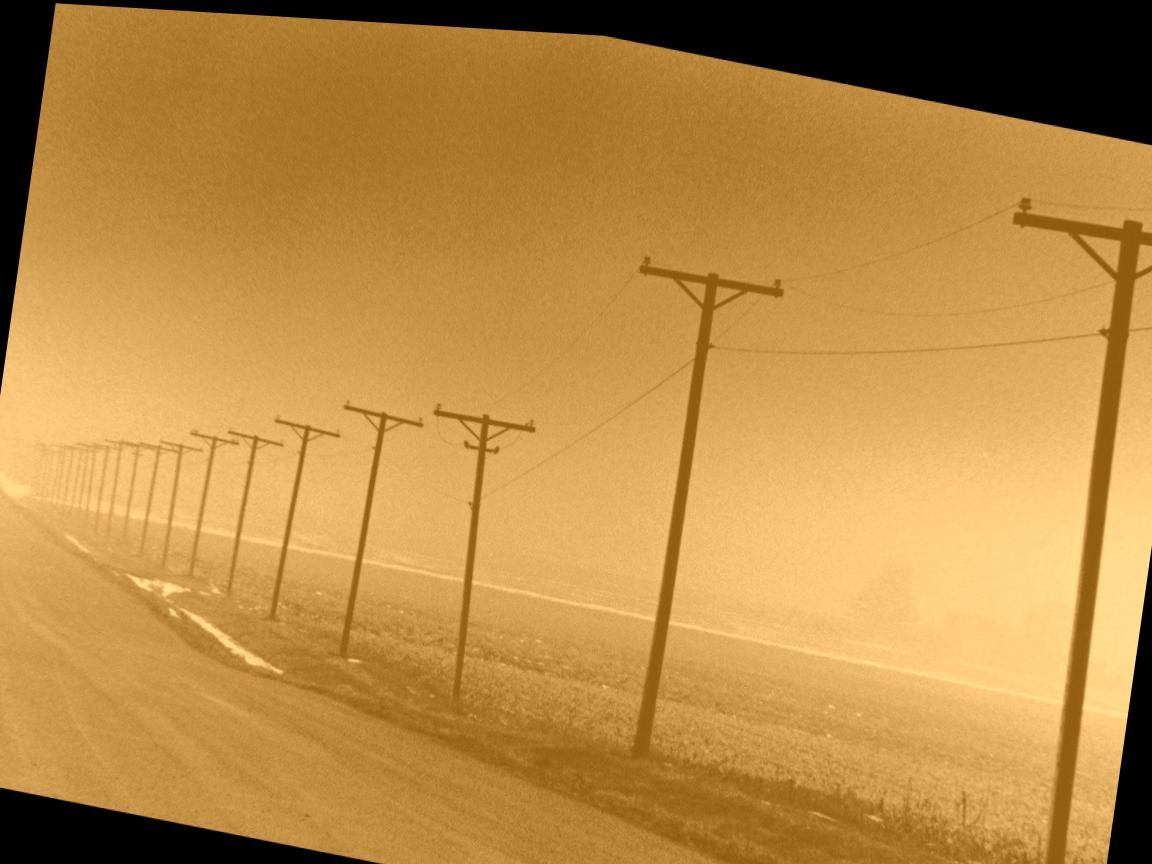Animal: (922, 145, 1152, 864), (570, 223, 794, 801), (389, 380, 566, 714), (309, 374, 426, 657), (244, 389, 338, 617), (135, 418, 221, 581), (203, 411, 283, 586), (166, 409, 240, 572)
